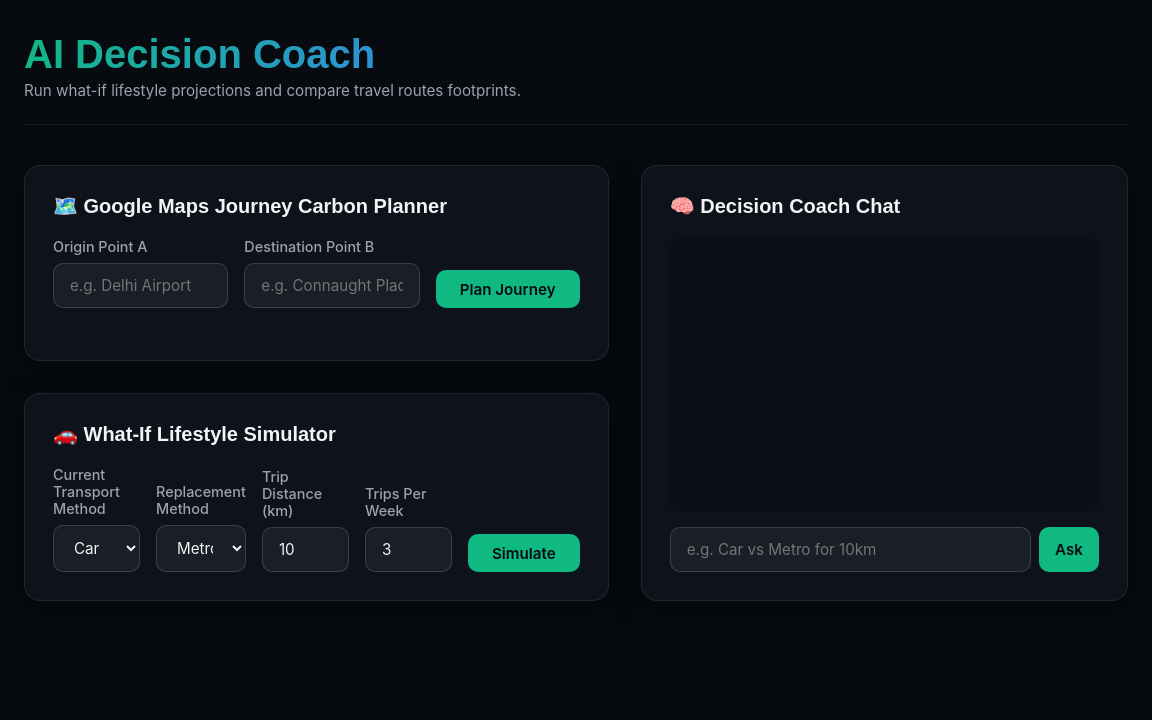
Test case: EcoAI Major Expansion Frontend Component Tests › should interactive chat inside Decision Engine widget
Expected: the heading "🧠 Decision Coach Chat" is shown, x1=670 y1=195 x2=900 y2=217
Type "Car vs Metro 10km" into the field named "Ask carbon advice" at (850, 550), box x1=670 y1=527 x2=1031 y2=572
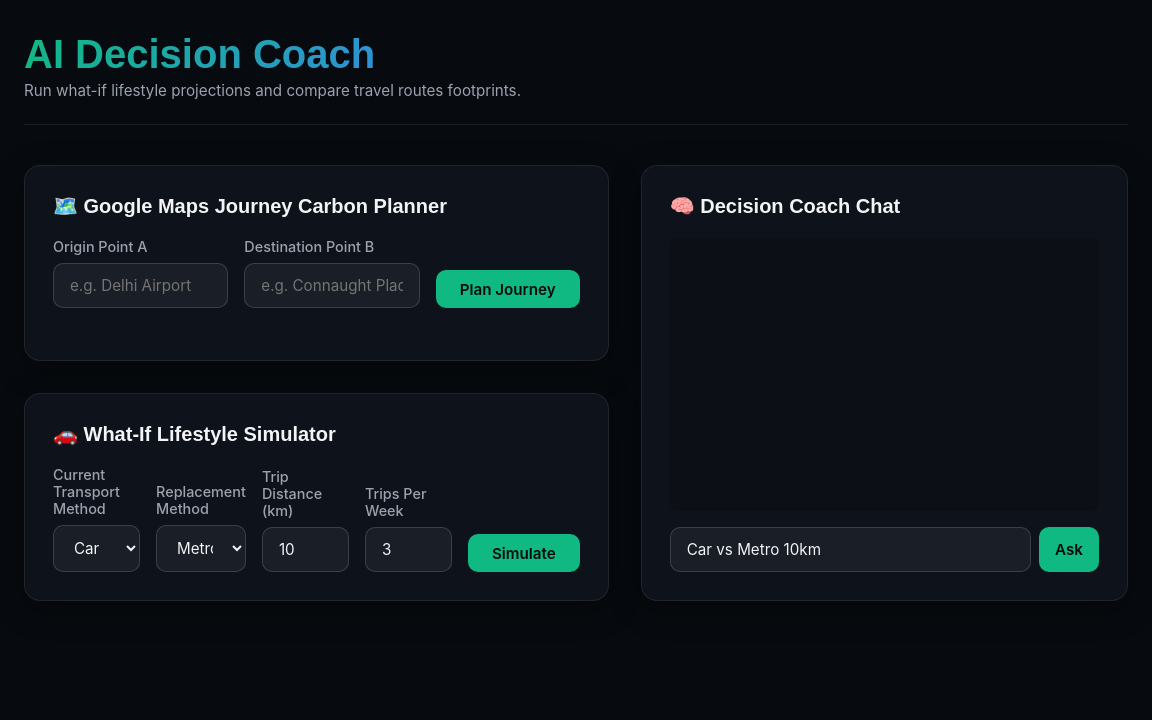
Click the button "Ask" at (1069, 550), box x1=1039 y1=527 x2=1099 y2=572
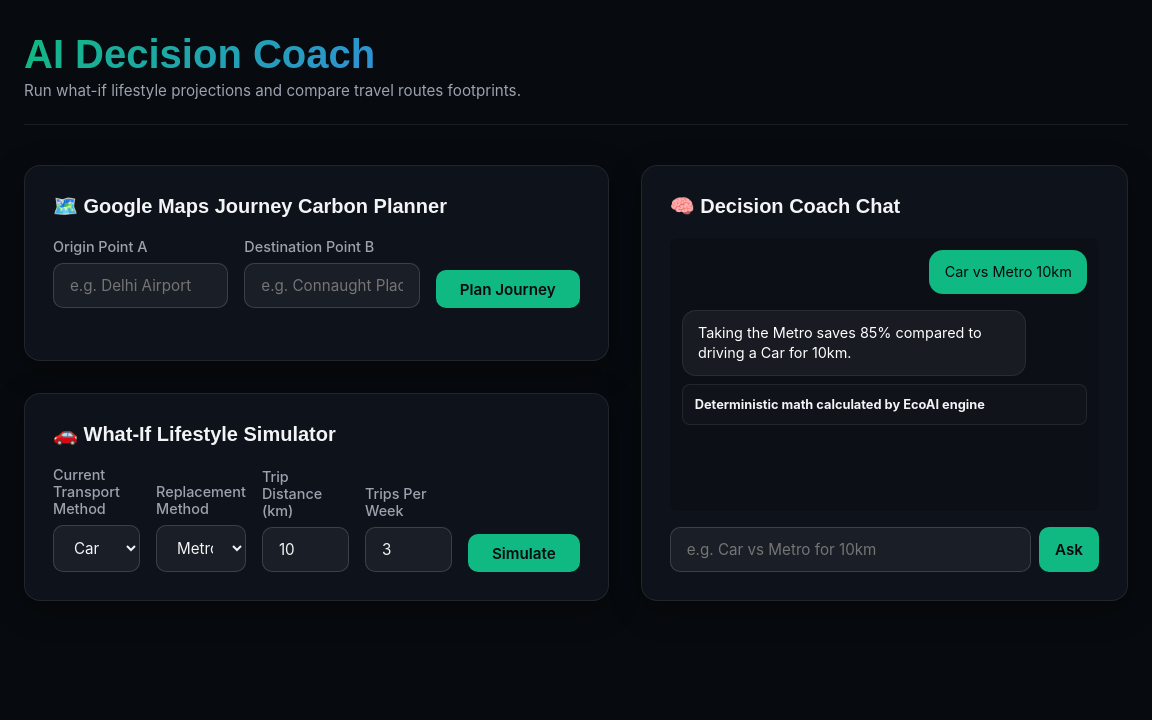
Now the text "Taking the Metro saves 85% compared to driving a Car for 10km." is shown, box x1=682 y1=310 x2=1026 y2=376
Now the text "Deterministic math calculated by EcoAI engine" is shown, box x1=695 y1=398 x2=985 y2=412
